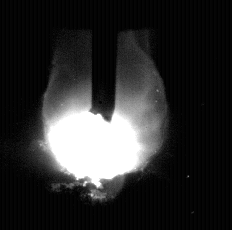arame: (92, 0, 117, 122)
poca: (43, 0, 166, 230)
